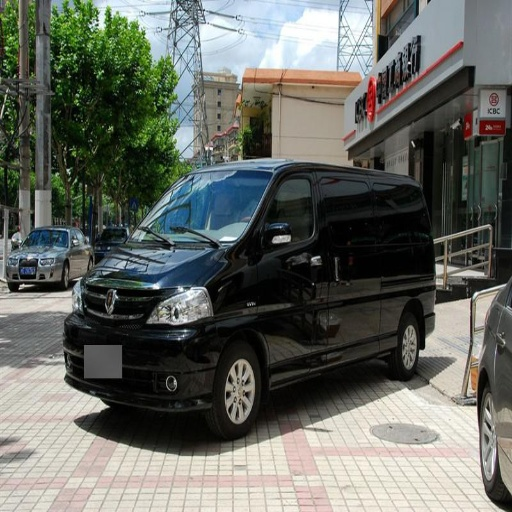front_bumper: (65, 280, 223, 409)
front_glass: (138, 171, 271, 244)
front_left_door: (260, 171, 359, 365)
